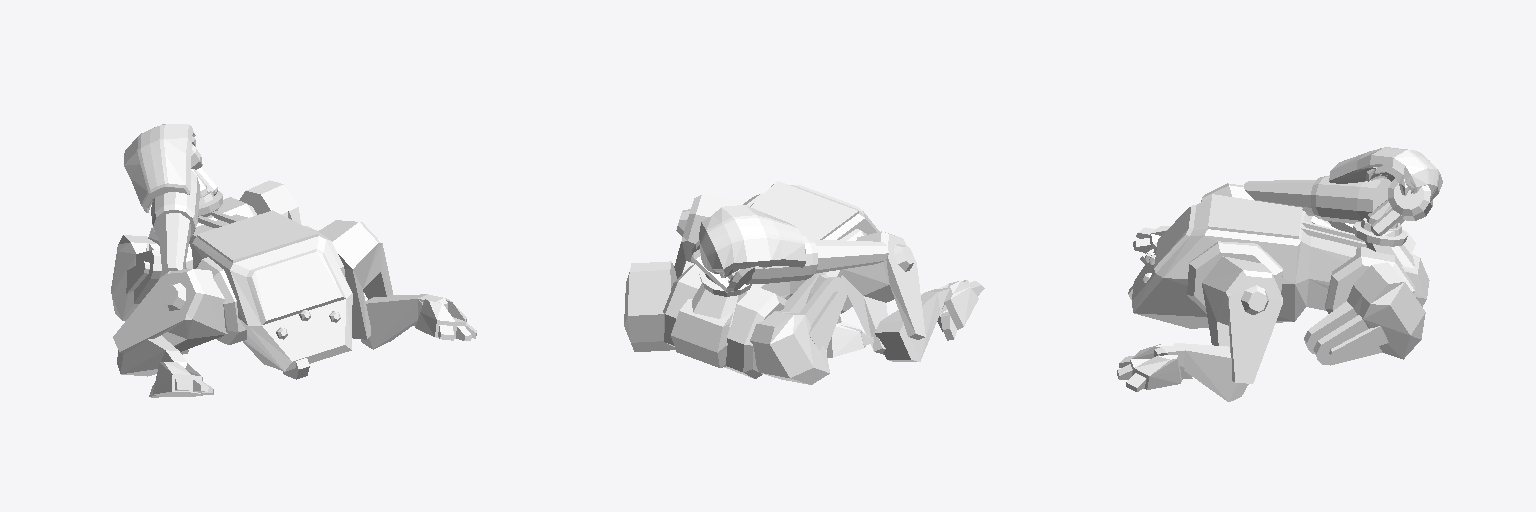
The model's file is armfido_anim_death.obj.
3 renders of one model, left to right at view 1: azimuth 30°, elevation 25°; view 2: azimuth 150°, elevation 25°; view 3: azimuth 270°, elevation 25°, orthographic.
Visible parts, largest first — view 1: torso, ruparm, sleeve, luparm, rthigh, lloarm, lhand, rloarm, rhand, barrel, shoulder, lthigh (+2 smaller); view 2: torso, sleeve, rthigh, ruparm, pelvis, lthigh, rloarm, barrel, luparm, rhand, base, rfoot (+1 smaller); view 3: torso, lthigh, luparm, sleeve, lloarm, shoulder, lhand, pelvis, turret, barrel, loturret, rhand.
Part boxes in pixels (x1,y1,x2,y2): torso: (189,210,352,371); ruparm: (113,269,227,353); sleeve: (124,124,199,237); luparm: (318,220,392,339); rthigh: (111,235,161,320); lloarm: (361,294,447,349); lhand: (412,298,476,340); rloarm: (117,335,186,376); rhand: (149,362,213,397); barrel: (157,213,190,275); shoulder: (195,226,345,344); lthigh: (239,180,300,223); torso: (671,181,879,367); sleeve: (699,205,817,284); rthigh: (750,274,846,384); ruparm: (841,231,925,354); pelvis: (663,264,786,378); lthigh: (624,261,676,351); rloarm: (875,288,949,361); barrel: (813,240,888,273); luparm: (674,195,746,278); rhand: (937,280,984,340); base: (692,284,746,326); rfoot: (826,322,874,357); torso: (1132,194,1429,328); lthigh: (1304,262,1425,365); luparm: (1202,256,1282,383); sleeve: (1310,147,1442,223); lloarm: (1154,343,1248,401); shoulder: (1187,241,1282,313); lhand: (1117,343,1192,391); pelvis: (1325,247,1414,313); turret: (1371,179,1432,235); barrel: (1244,180,1315,213); loturret: (1353,200,1407,246); rhand: (1133,226,1170,263).
Bounding box in the file's own units: 40.05 × 23.84 × 37.81.